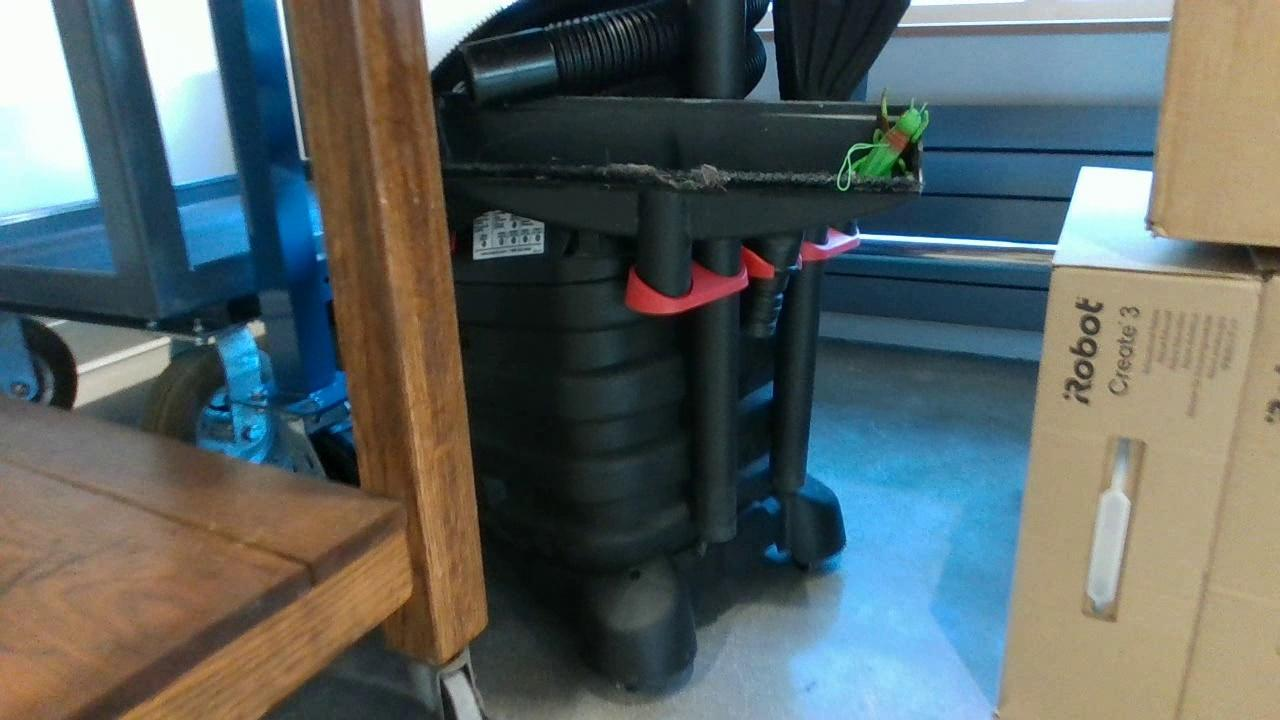grasshopper: (837, 88, 931, 189)
